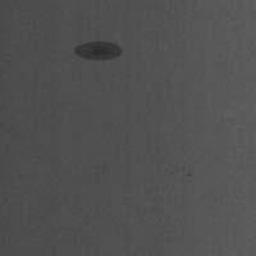Oil spot: (74, 42, 122, 60)
